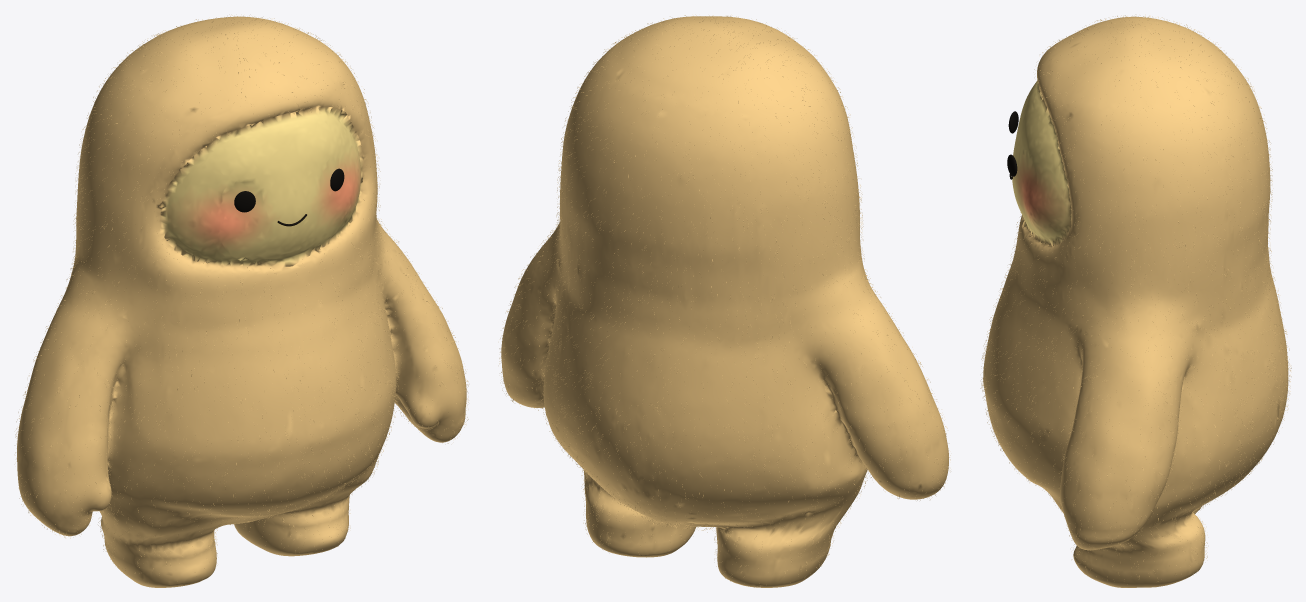
File: musan-bare-shape.glb
3 views of the same model, side by side, from view 1: azimuth 30°, elevation 25°; view 2: azimuth 150°, elevation 25°; view 3: azimuth 270°, elevation 25° (orthographic). The views are drawn at different scales.
Visible parts, largest first — view 1: tripo_node_11b8c896-6114-4562-b0bc-071d7929bbcd, Short plush silhouette fibres; view 2: tripo_node_11b8c896-6114-4562-b0bc-071d7929bbcd, Short plush silhouette fibres; view 3: tripo_node_11b8c896-6114-4562-b0bc-071d7929bbcd, Short plush silhouette fibres.
Boxes of the visible parts, x1,y1,x2,y2 form: tripo_node_11b8c896-6114-4562-b0bc-071d7929bbcd: (17, 16, 466, 587); Short plush silhouette fibres: (15, 15, 468, 582); tripo_node_11b8c896-6114-4562-b0bc-071d7929bbcd: (501, 16, 948, 587); Short plush silhouette fibres: (499, 15, 950, 587); tripo_node_11b8c896-6114-4562-b0bc-071d7929bbcd: (983, 16, 1288, 587); Short plush silhouette fibres: (980, 15, 1291, 586).
Size of the model in its own units: 0.8676 by 1.01 by 0.5513.
